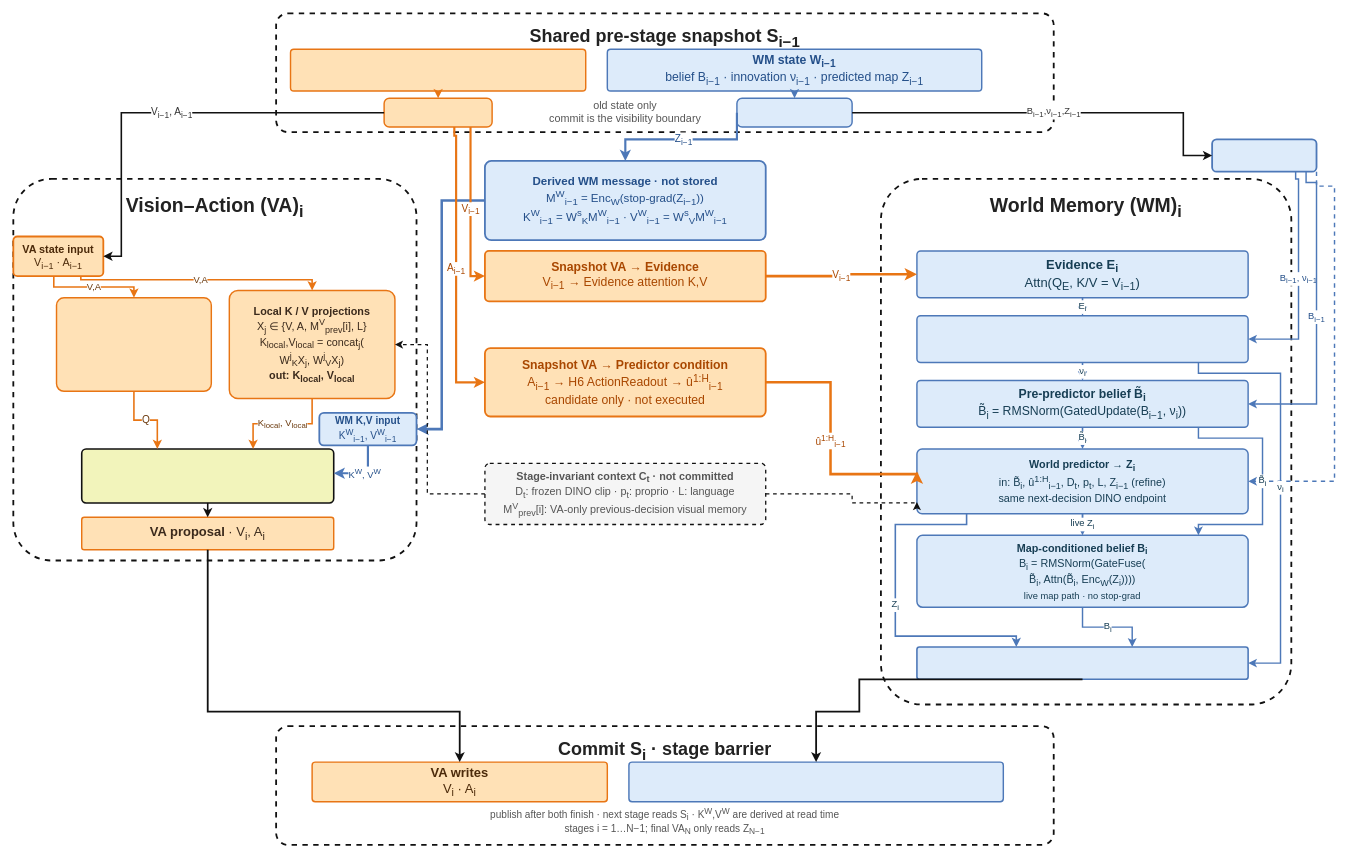
Some shapes in this 1354 by 858 pixel diagram are drawn without their labels. Each missing label, with the centre of its shape:
Innovation ν i ν i = RemoveOverlap(E i − Ê(B i−1 ), ν i−1 ): the point at 1082,339
Query projection in: V i−1 , A i−1 Q = [W V Q V i−1 ; W A Q A i−1 ] out: Q: the point at 133,344
Shared Multi-Head Attention softmax(QK T /√d k )V: the point at 207,475
VA read bus: the point at 437,112
VA state visual tokens V i−1 · latent action tokens A i−1: the point at 437,69
WM old-state port B i−1 · ν i−1 · Z i−1: the point at 1264,155
WM proposal W i = { B i , ν i , Z i }: the point at 1082,663
WM read bus: the point at 794,112
WM writes W i B i · ν i · Z i: the point at 816,781
